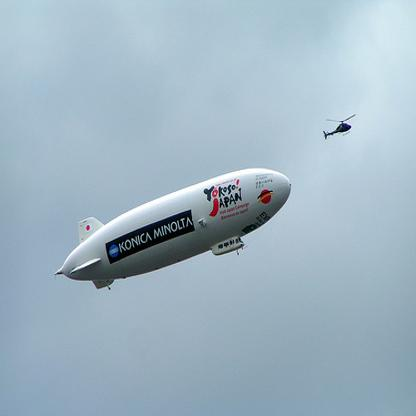Airship: (45, 165, 300, 300)
